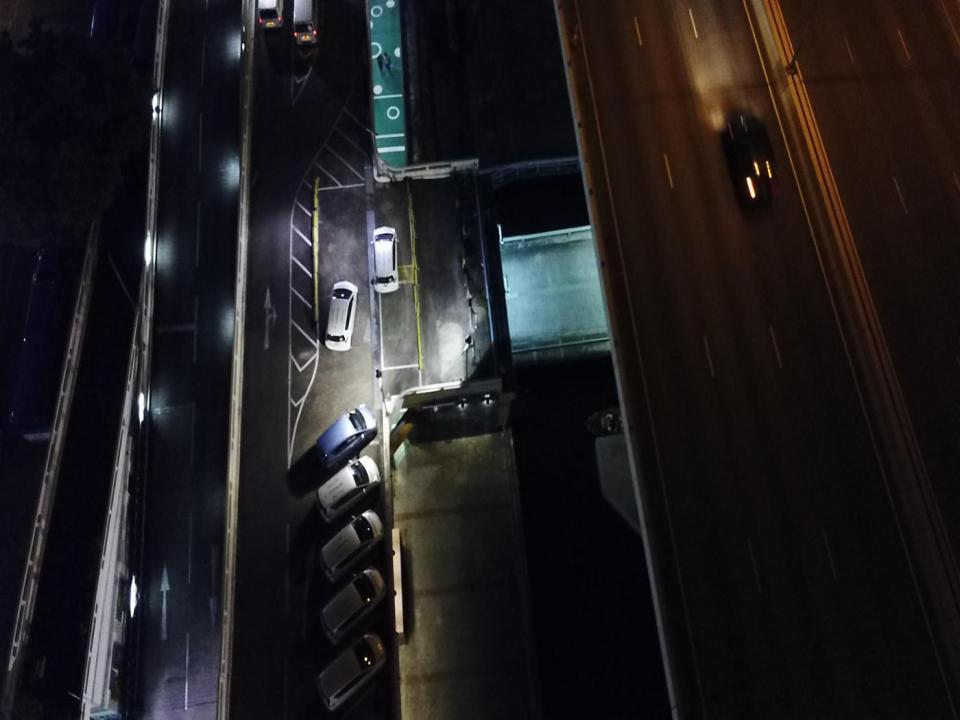car: (317, 630, 387, 712), (322, 568, 388, 644), (321, 509, 386, 584), (726, 109, 776, 206), (316, 401, 377, 475), (316, 454, 380, 523), (326, 280, 357, 350), (373, 227, 400, 295)
van: (291, 0, 319, 47)
